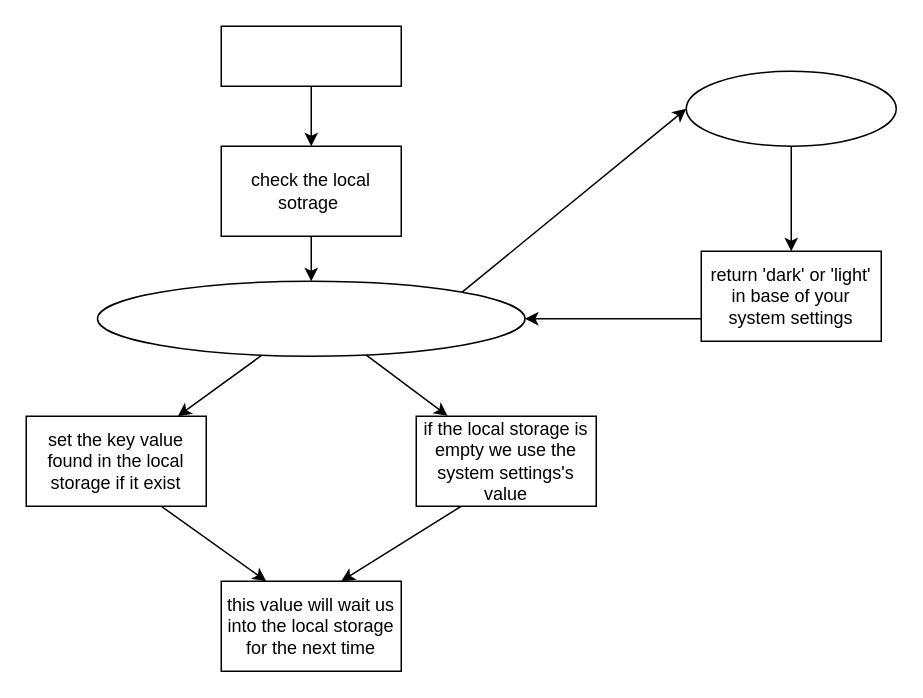
Image size: 923x698. Some labels were removed from this diagram. The shapes that lost their labels are listed below. From the top down, each one's box as (x1, y1, x2, y2) in pixels, then its label:
(220, 25, 401, 86): Open web-site
(685, 70, 896, 146): systemLightMode()
(96, 280, 525, 356): useLocalStorage( 'darkMode' , systemLightMode() )
